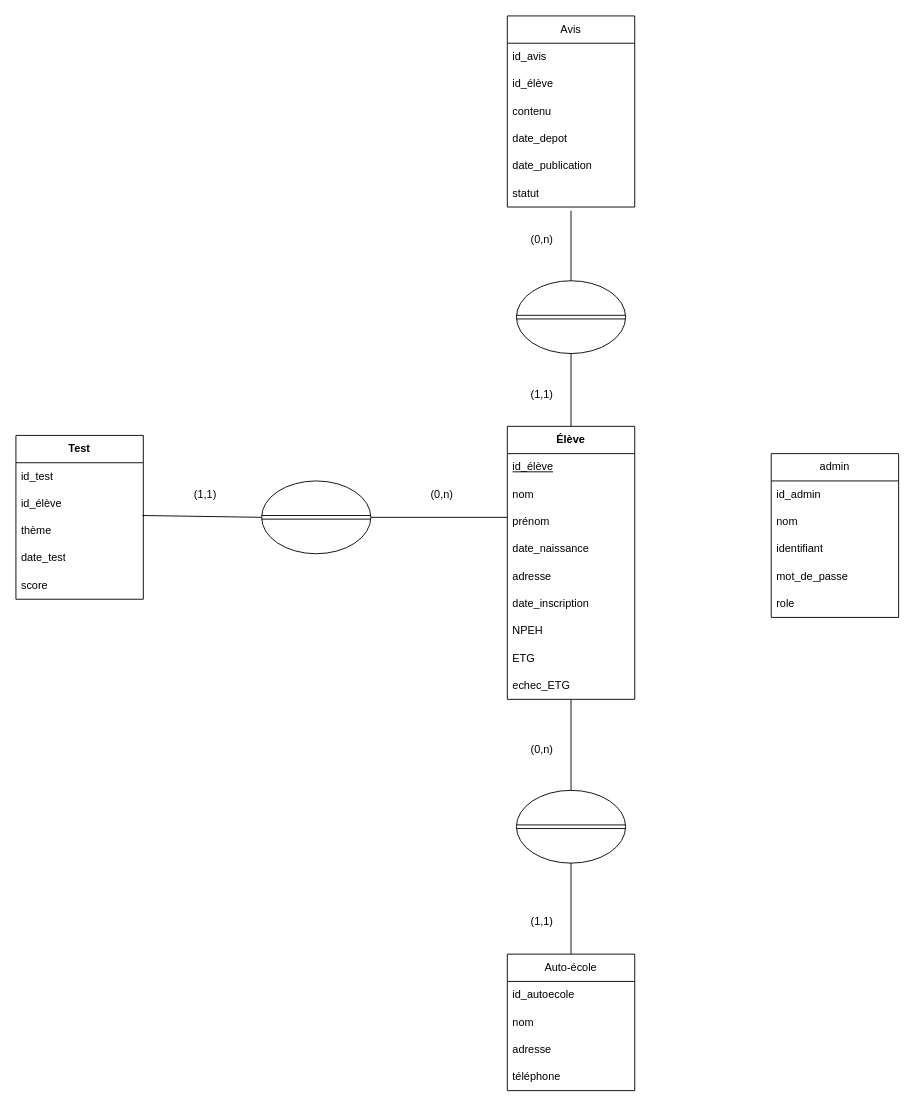
This 915x1107 diagram has some shape labels left out. The shapes that lost their labels are listed below. From the top down, each one's centre as x and y in pixels, then its label:
the point at 571,317: Donner
the point at 316,517: Passer
the point at 571,826: Appartient à
